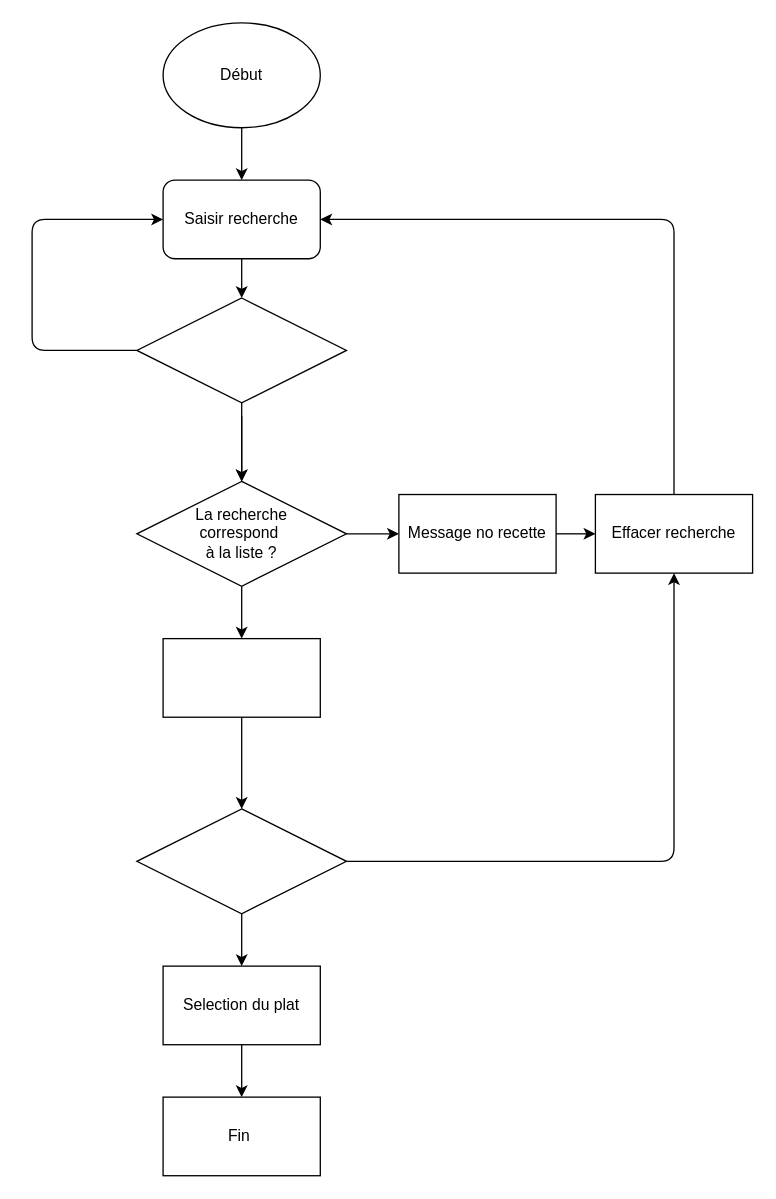
Some shapes in this 776 by 1199 pixel diagram are drawn without their labels. Here are the shapes that lost their labels. From the top down, the centre of each, then its label:
At point (241, 350): "Si recherche > 3 lettres".
At point (241, 677): "Filtrer & Afficher".
At point (241, 861): "Le plat convient-il ?".
